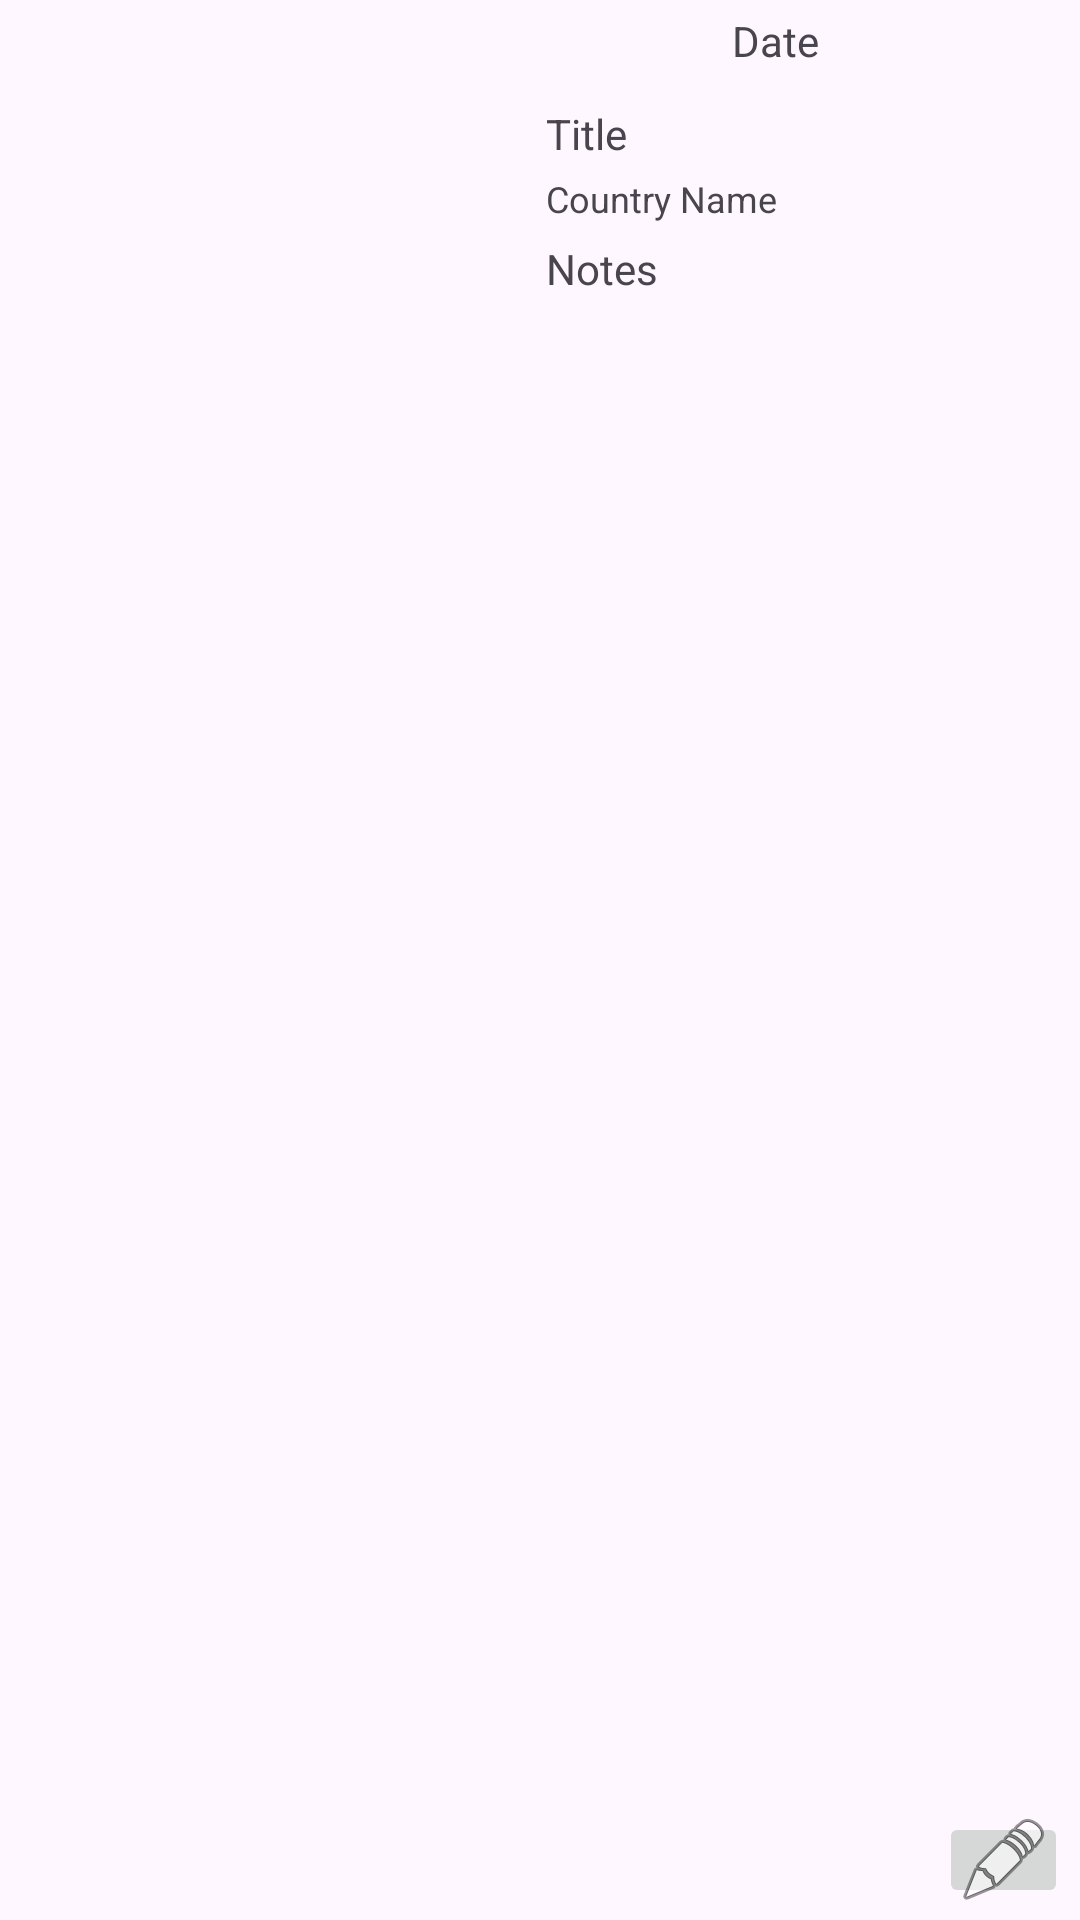

Named icons in this screenshot (1080×1920) and their bounding boxes, Rect(x1, y1, x2, y2):
edit: Rect(951, 1819, 1056, 1900)
